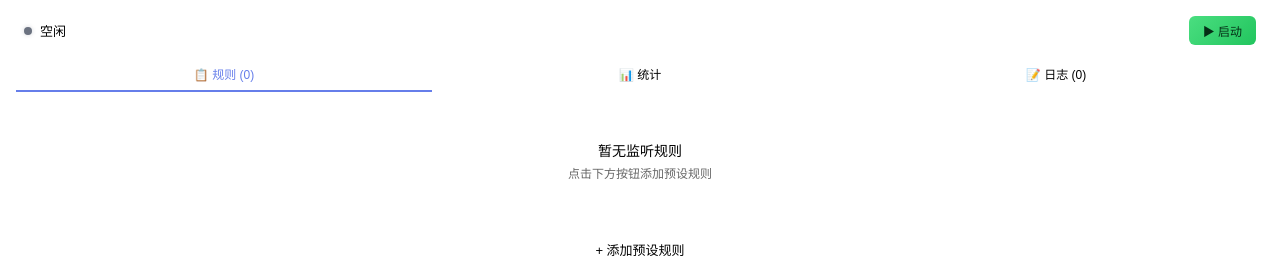
WatchPanel › Tab 切换 › 点击日志 Tab 应该切换到日志面板
Click the button "📝 日志 (0)" at {"x": 1056, "y": 74}, box [848, 57, 1264, 92]
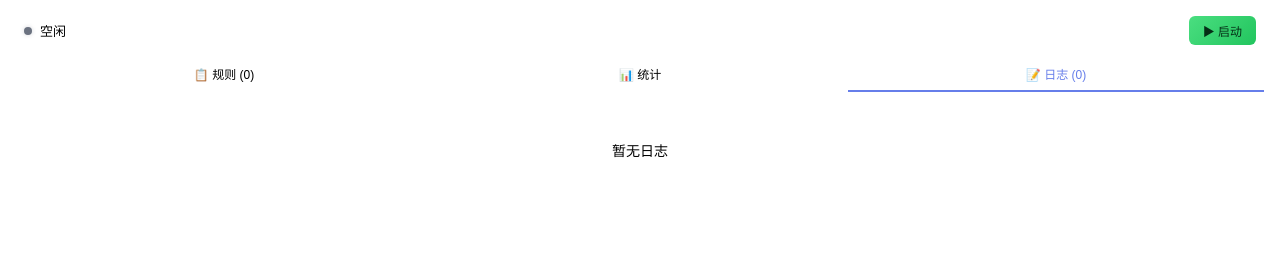
Check: the text "暂无日志" is shown, box [612, 144, 668, 159]
